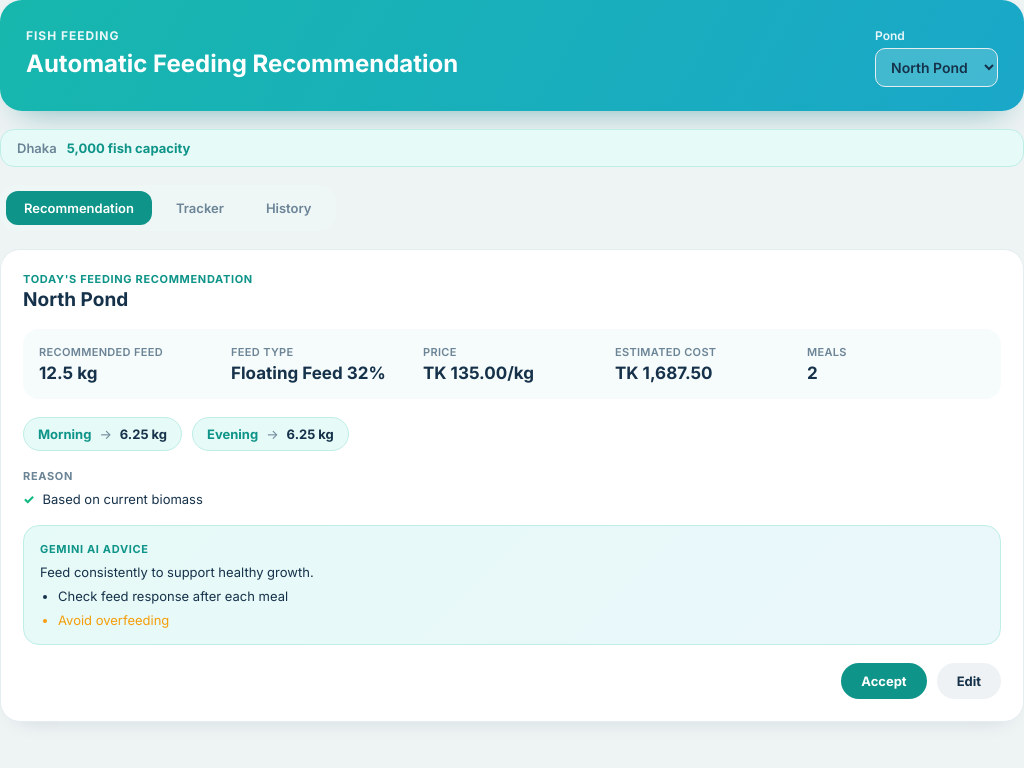
Test: feeding integration flow › accepts a recommendation and opens the active feeding tracker
The image size is (1024, 768).
Expected: the text "Today's Feeding Recommendation" is shown, [23,272,253,286]
What coordinates should you click on to do the following:
click the button "Accept"
I would click on:
 (884, 681)
Its box is [841,663,927,699].
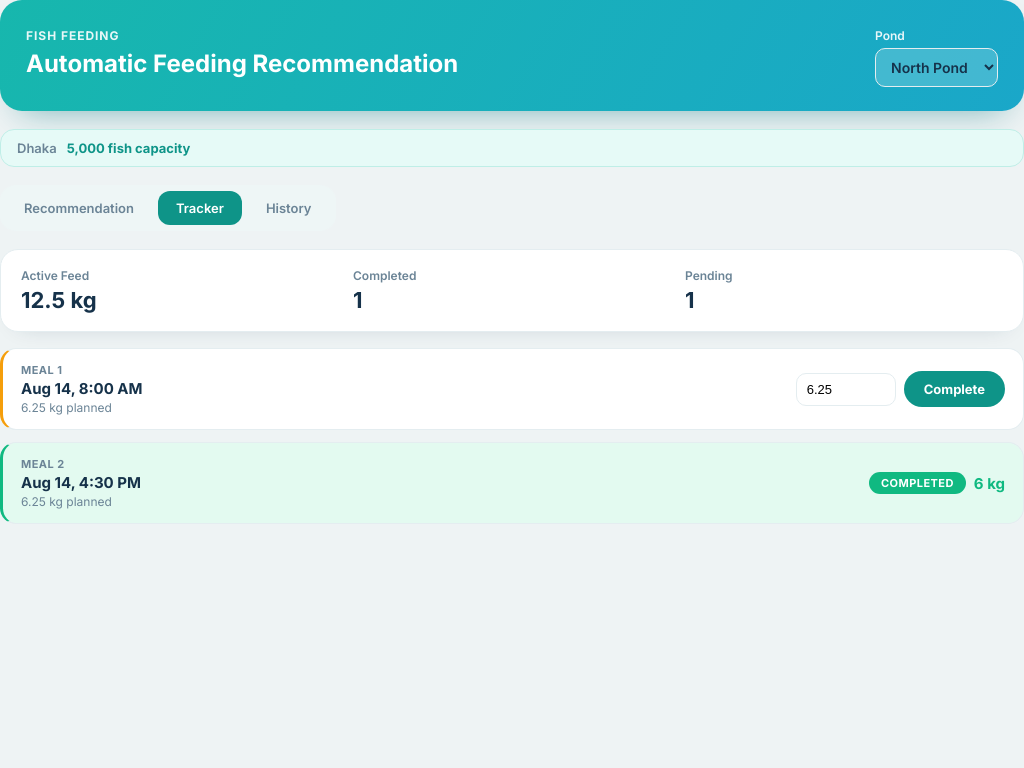
Result: the text "Active Feed" is shown at [21,268,89,283]
